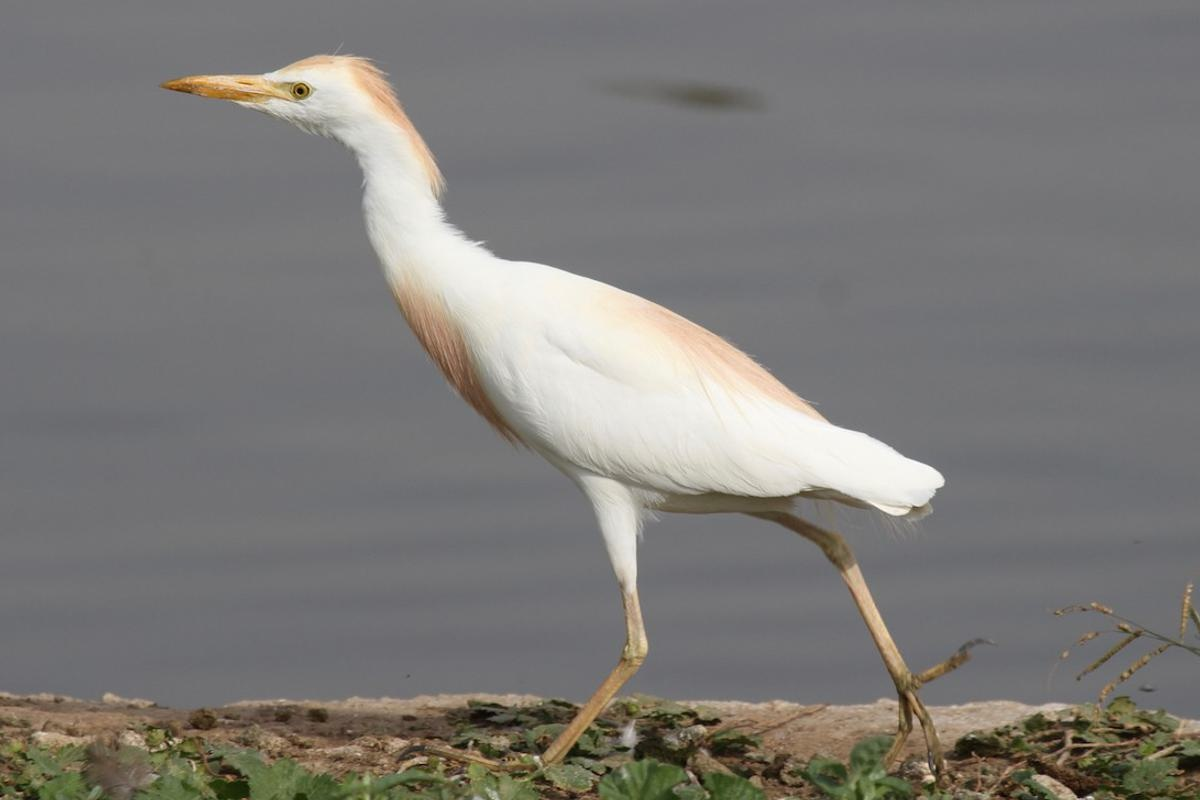egret: (151, 27, 998, 800)
